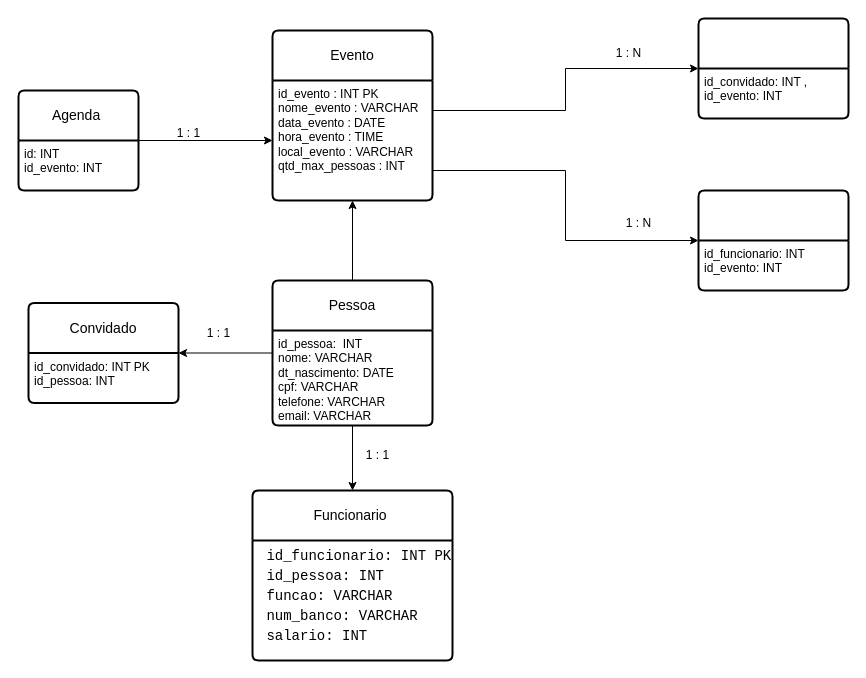
Some shapes in this 866 by 678 pixel diagram are drawn without their labels. Here are the shapes that lost their labels. From the top down, the box of each, then its label:
(697, 17, 849, 119): Convidado_evento
(697, 189, 849, 291): Funcionario_evento
